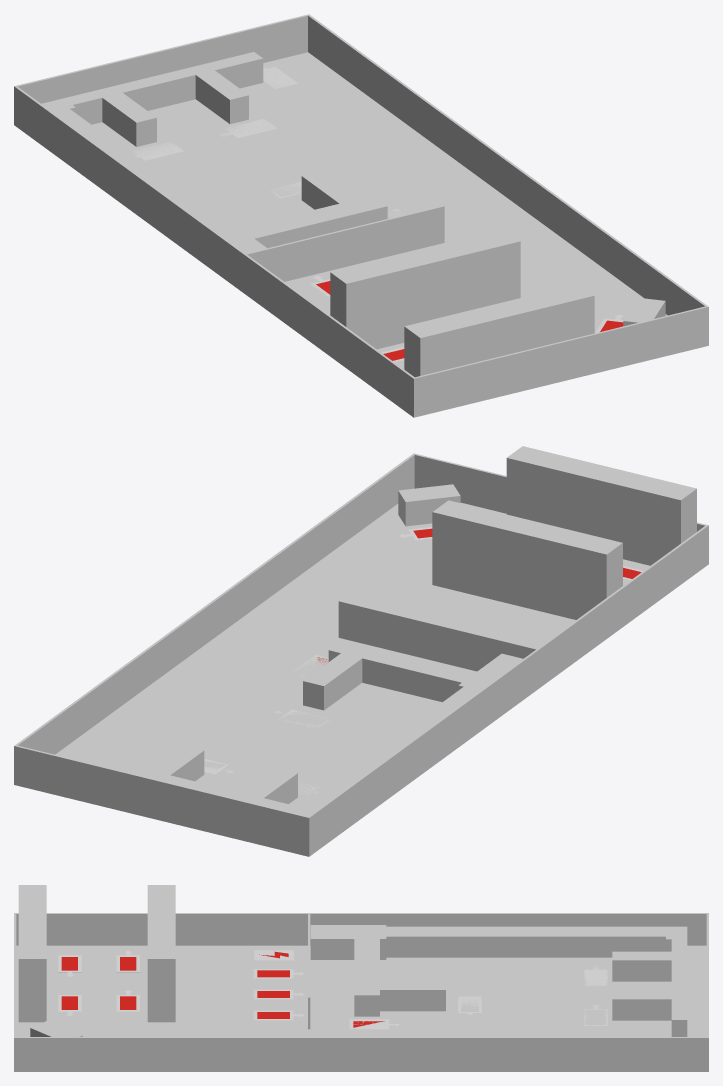
File: factory.dae
The picture shows the model from 3 angles, top to bottom: view 1: azimuth 30°, elevation 25°; view 2: azimuth 150°, elevation 25°; view 3: azimuth 270°, elevation 25°; orthographic projection. The views are drawn at different scales.
Parts seen in each view (by area): view 1: factory; view 2: factory; view 3: factory.
Boxes of the visible parts, <box> form: factory: <box>14,14,708,417</box>; factory: <box>14,446,708,856</box>; factory: <box>14,885,708,1071</box>.
Size of the model in its own units: 12.7 by 29.8 by 3.1.
